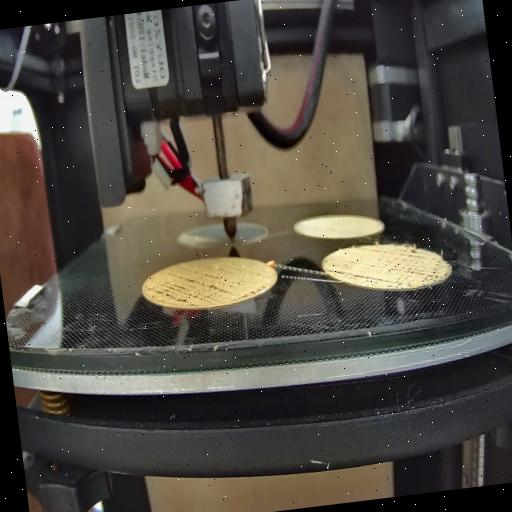under_extrusion: (144, 266, 268, 312), (376, 234, 446, 290), (324, 262, 378, 292)
